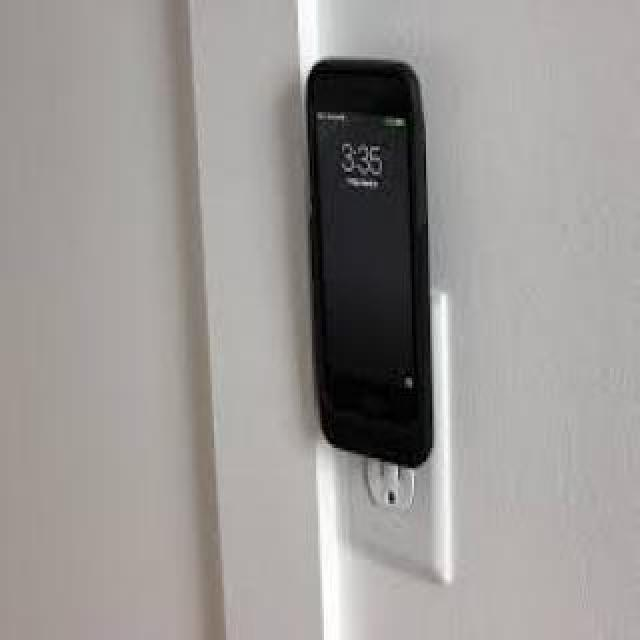smart phone: (281, 32, 479, 492)
